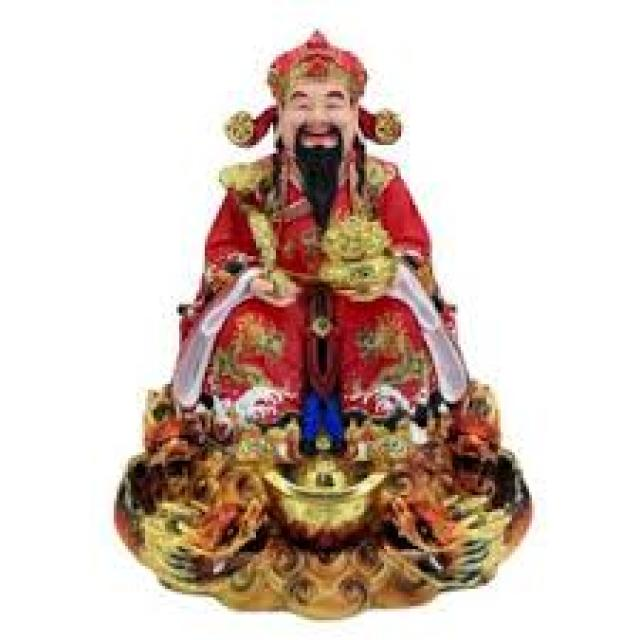Cai shen: (185, 24, 439, 468)
